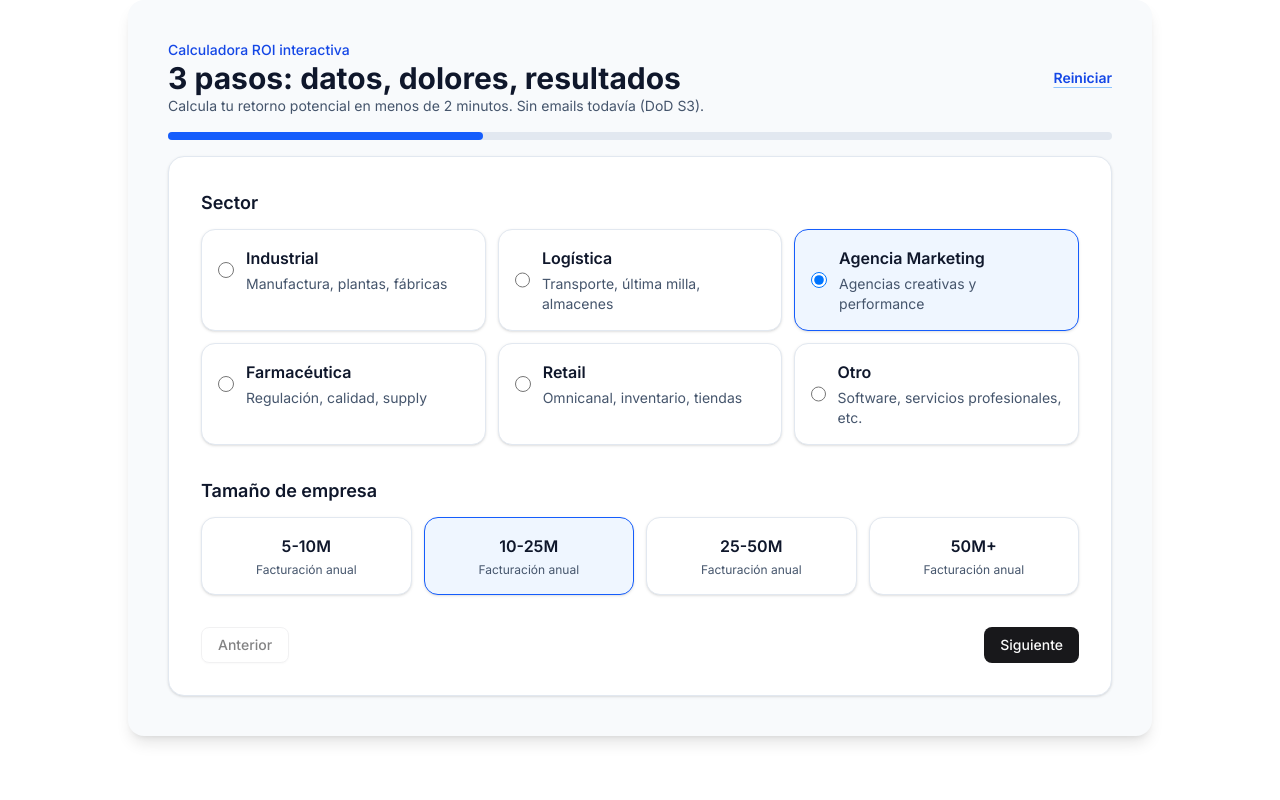
Scenario: ROICalculator wizard › envía el lead y el email y muestra confirmación
Click the radio button labelled "Industrial Manufactura, plantas, fábricas" at [226, 270], box [218,262,234,278]
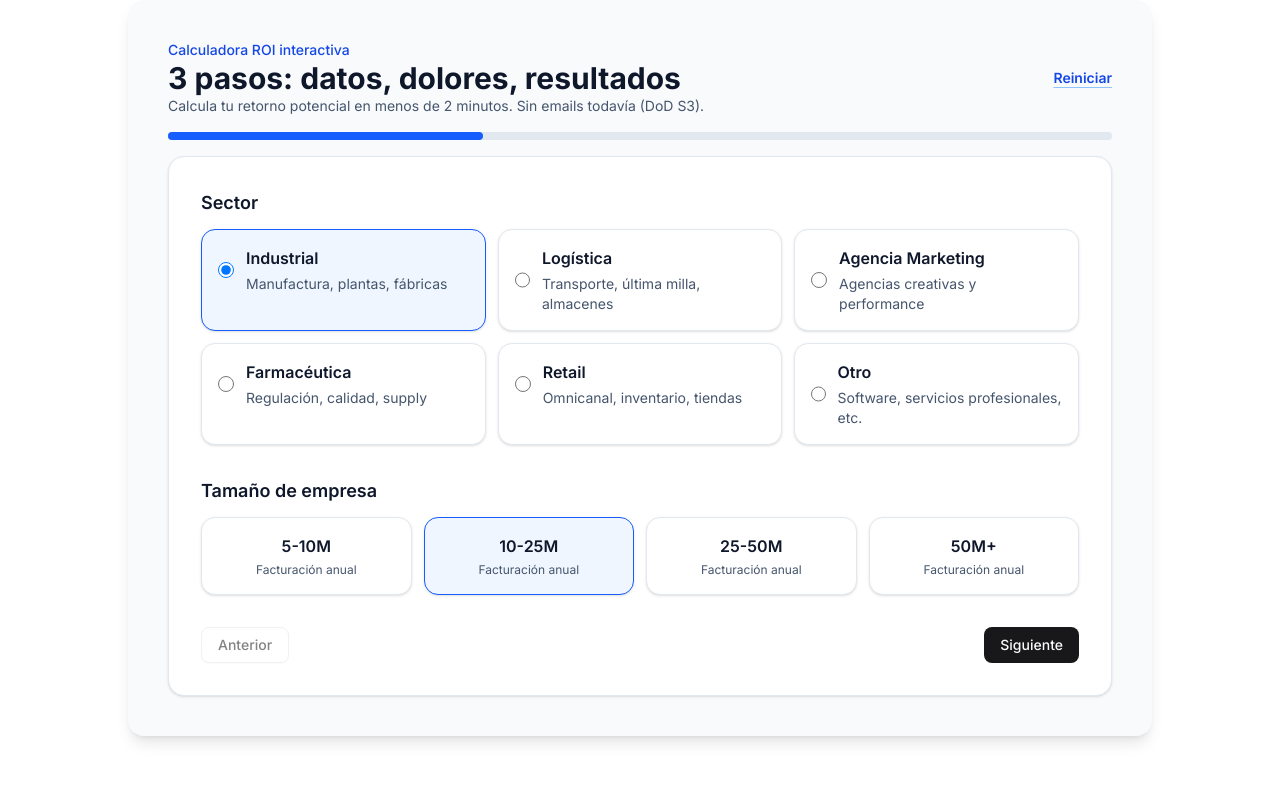
Click the radio button labelled "5-10M Facturación anual" at [306, 556], box [201,517,412,595]
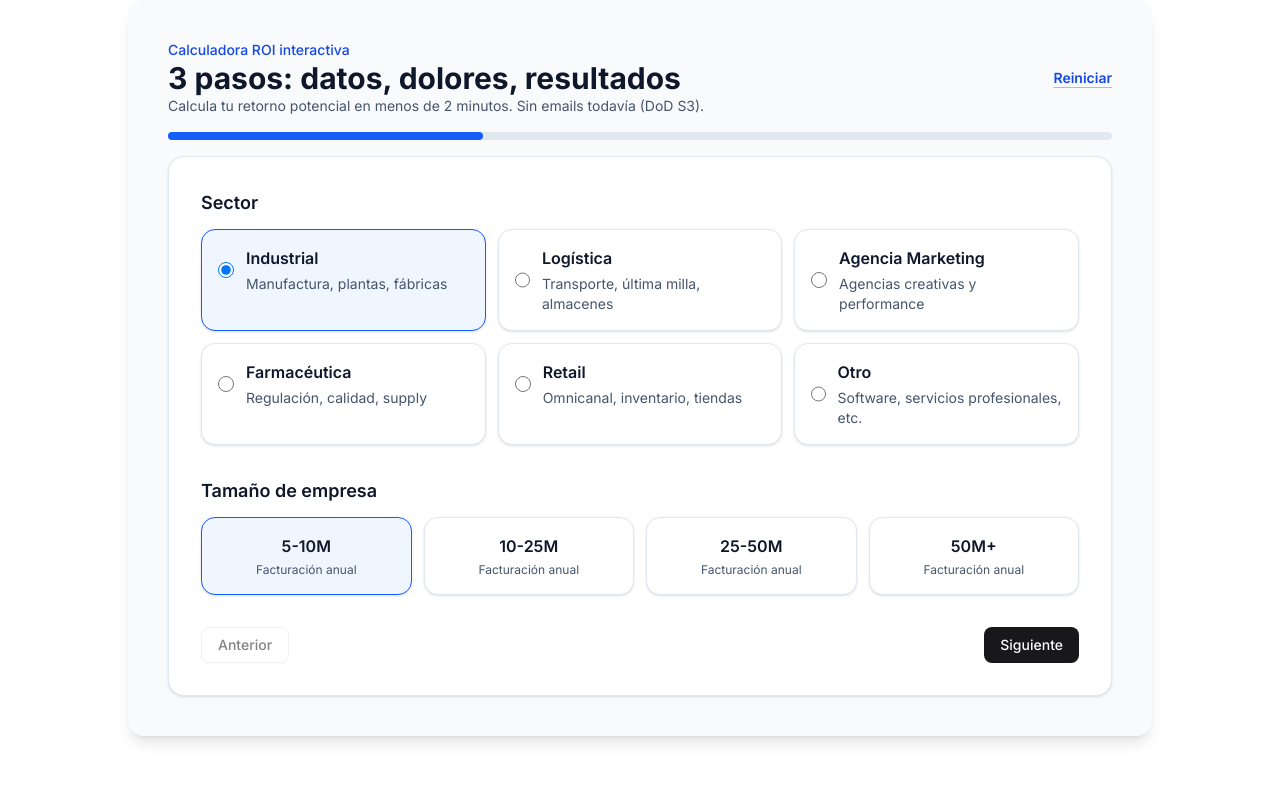
Click the button "Siguiente" at [1032, 645], box [984,627,1079,663]
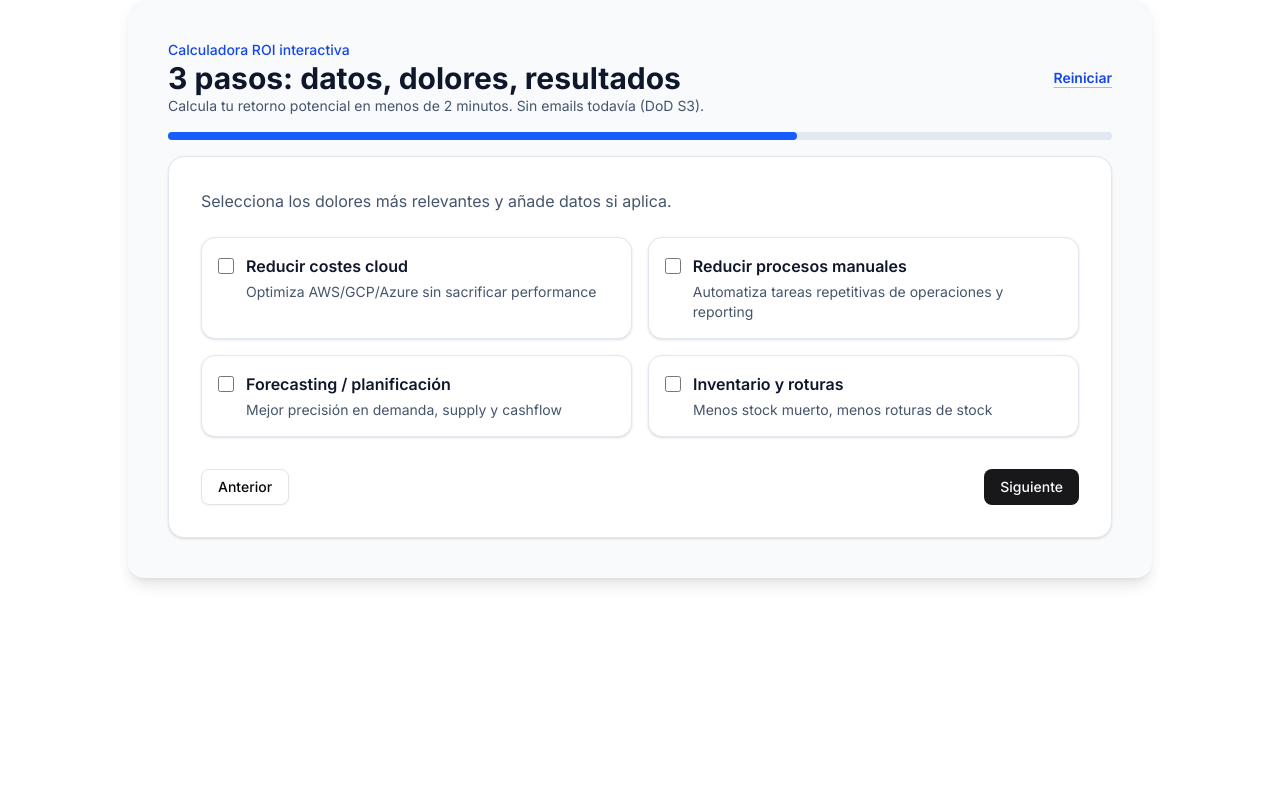
Click the checkbox labelled "Reducir costes cloud" at [226, 266], box [218,258,234,274]
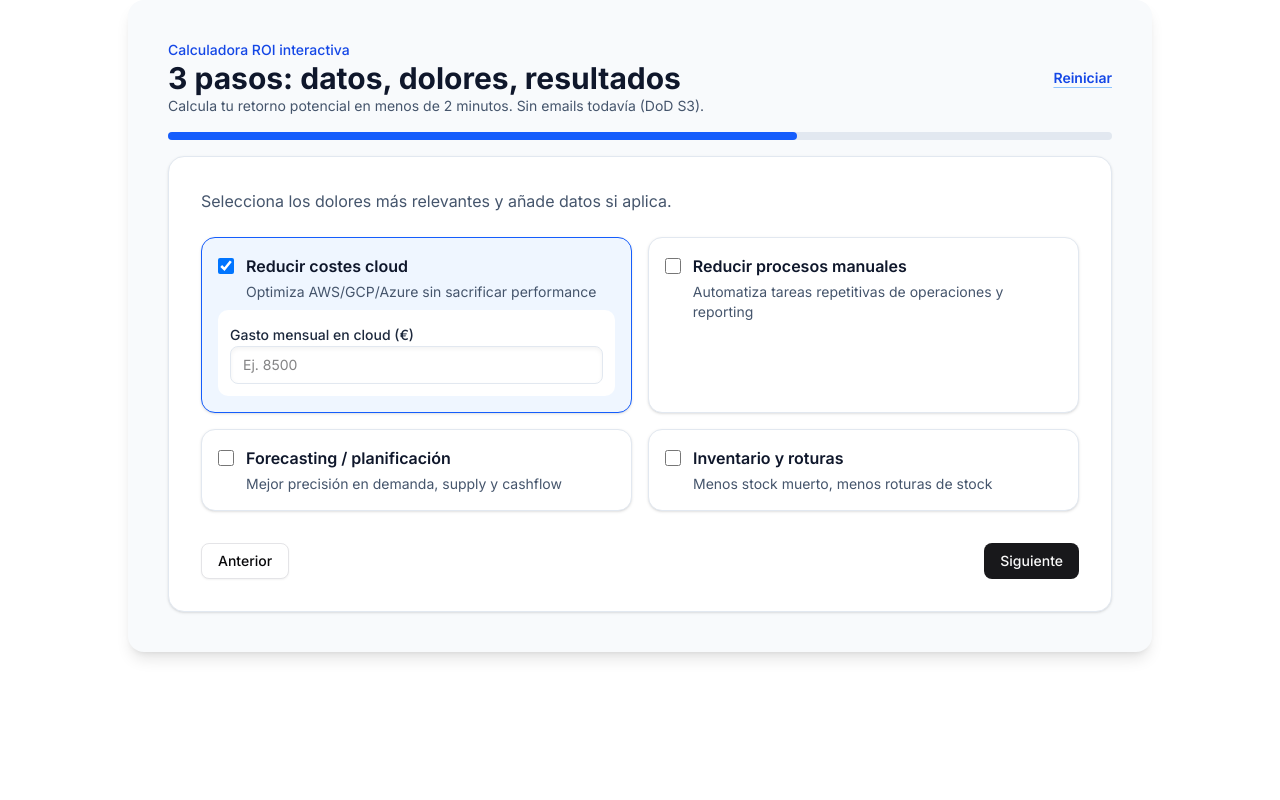
Type "4000" into the number field labelled "Gasto mensual en cloud (€)" at [416, 365], box [230,346,603,384]
Click the button "Siguiente" at [1032, 561], box [984,543,1079,579]
(page scrolled)
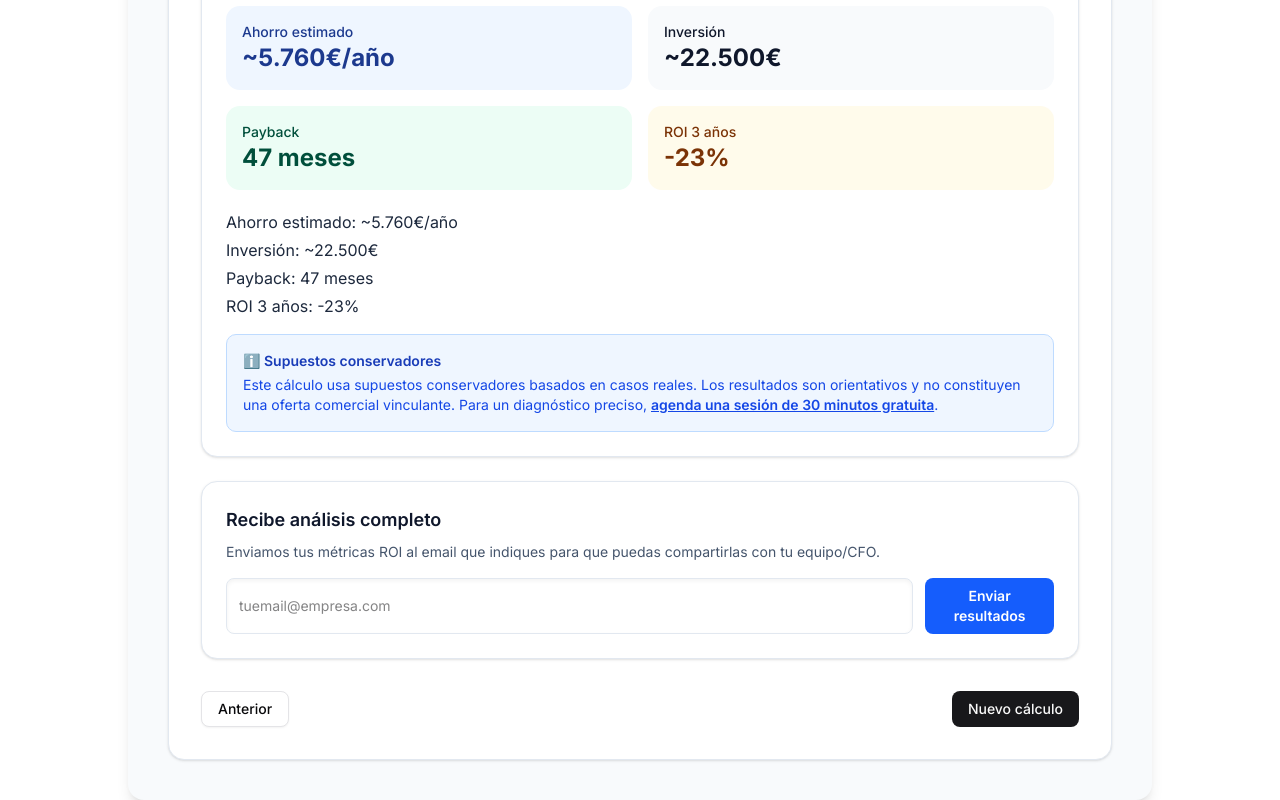
Type "ceo@empresa.com" into the field labelled "tuemail@empresa.com" at [570, 606], box [226,578,913,634]
Click the button "Enviar resultados" at [990, 606], box [925,578,1054,634]
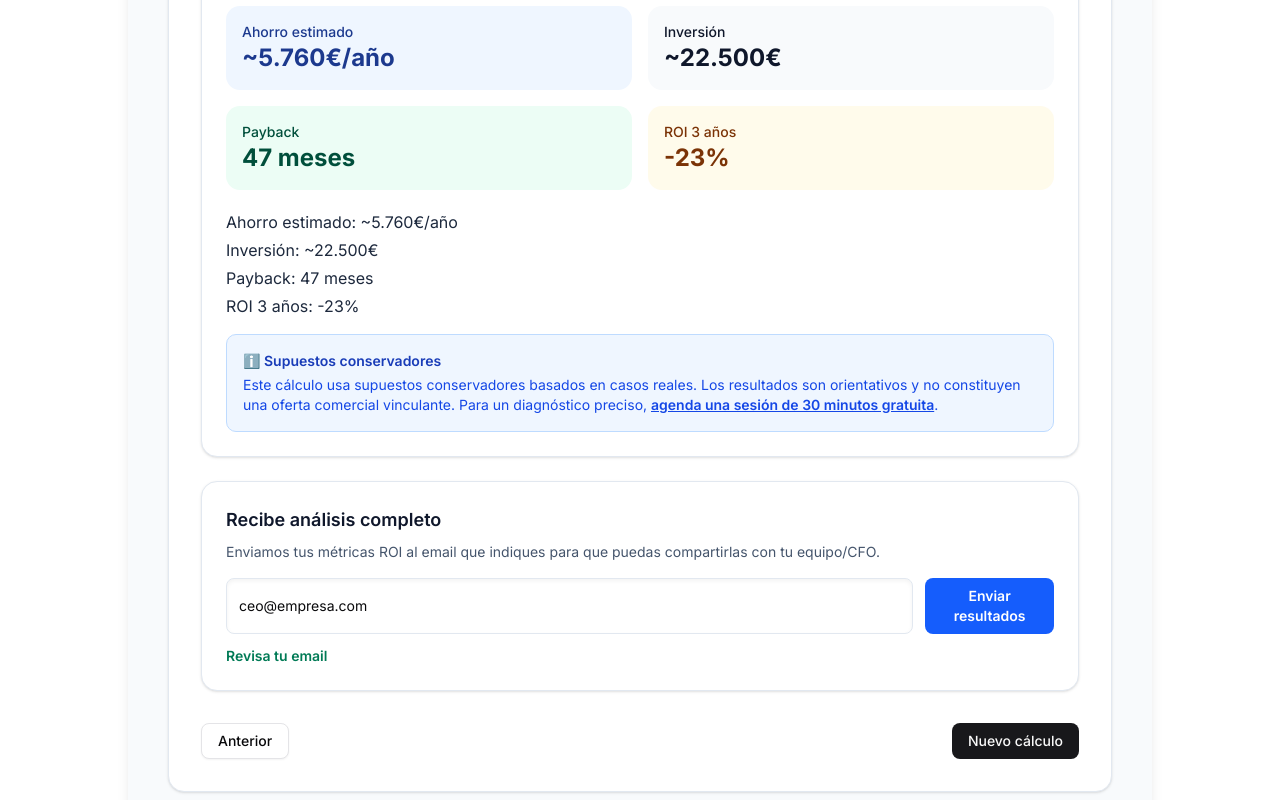
Expected: the text "Revisa tu email" is shown, [226,647,327,664]
